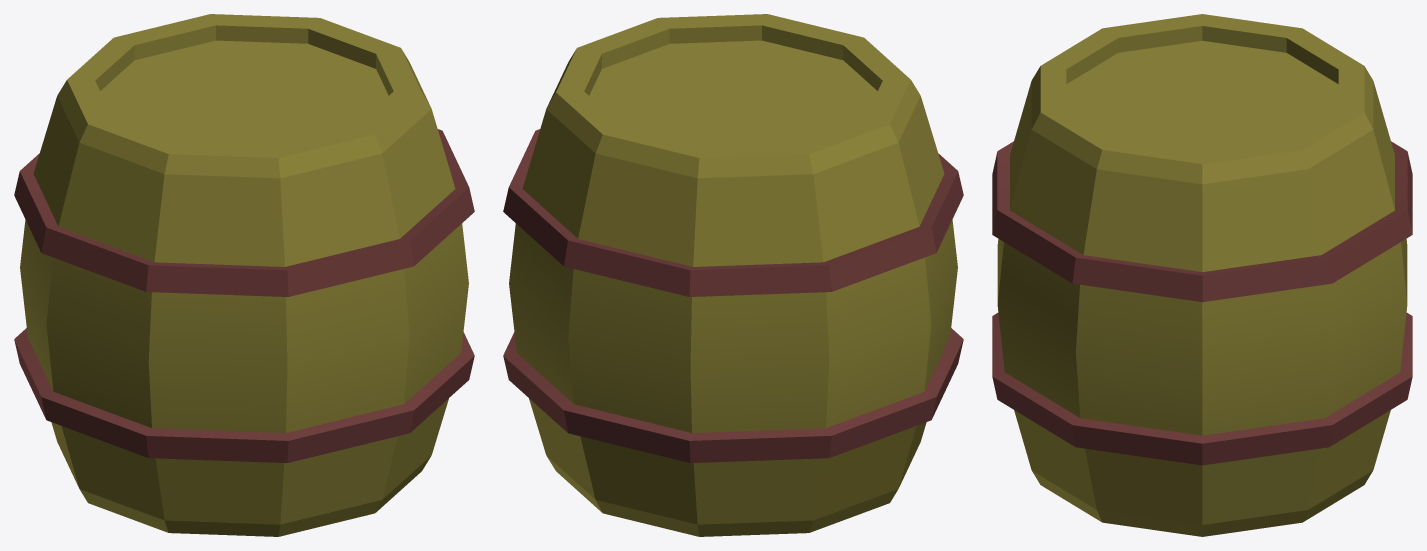
Rendered from Barrel_Yellow.fbx.
3 views of the same model, side by side, from view 1: azimuth 30°, elevation 25°; view 2: azimuth 150°, elevation 25°; view 3: azimuth 270°, elevation 25° (orthographic).
Visible parts, largest first — view 1: Yellow_Barrel; view 2: Yellow_Barrel; view 3: Yellow_Barrel.
Part boxes in pixels (x1,y1,x2,y2): Yellow_Barrel: (14, 14, 474, 536); Yellow_Barrel: (503, 14, 963, 536); Yellow_Barrel: (992, 14, 1412, 536).
Bounding box in the file's own units: 7.62 × 6.79 × 6.95.
